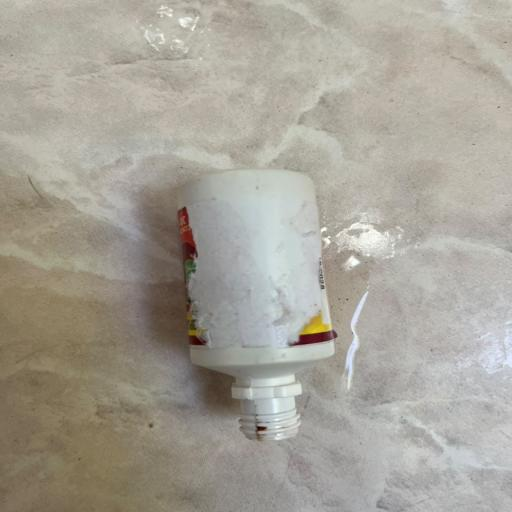HDPE: (160, 164, 376, 472)
